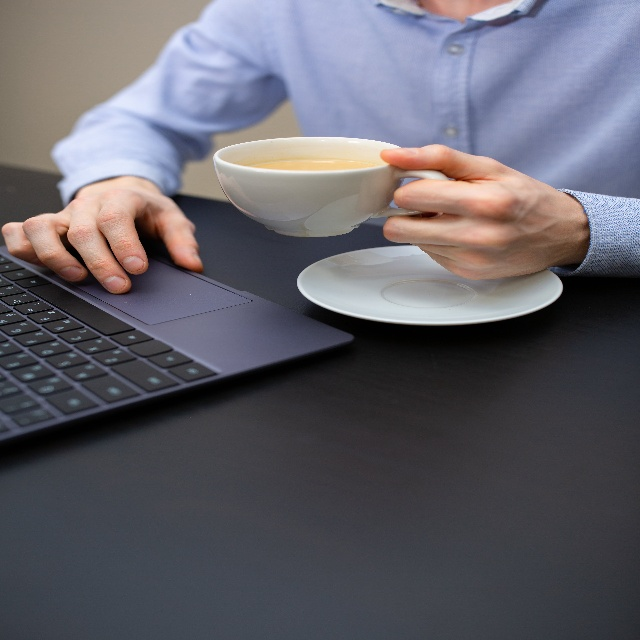Sin_guantes: (376, 141, 562, 281), (1, 172, 203, 293)
